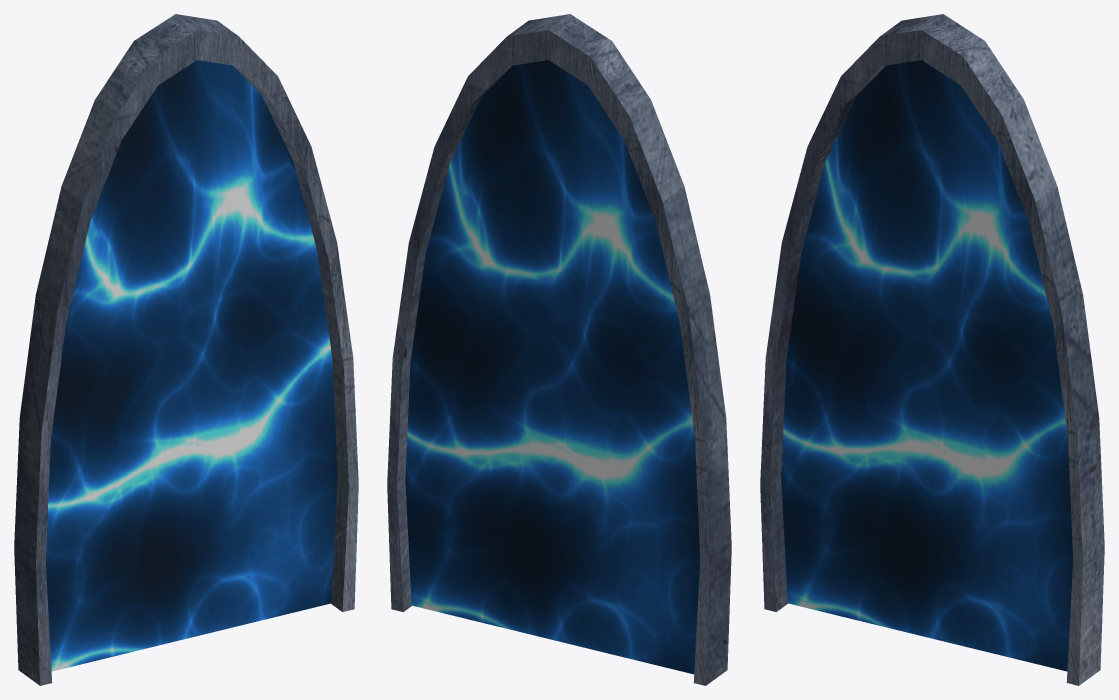
The model's file is GateActive.FBX.
The picture shows the model from 3 angles, left to right: view 1: azimuth 30°, elevation 25°; view 2: azimuth 150°, elevation 25°; view 3: azimuth 330°, elevation 25°; orthographic projection.
Visible parts, largest first — view 1: front, Gate; view 2: back, Gate; view 3: front, Gate.
Part boxes in pixels (x1,y1,x2,y2): front: [45, 60, 337, 671]; Gate: [14, 14, 358, 685]; back: [405, 60, 700, 674]; Gate: [387, 14, 731, 685]; front: [781, 60, 1073, 671]; Gate: [760, 14, 1104, 685].
Bounding box in the file's own units: 2.36 × 4.31 × 0.2749.
Materials: 2 (2 with a texture image).
